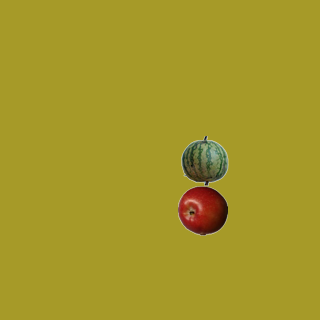Apple Braeburn: (177, 185, 227, 235)
Watermelon: (179, 135, 229, 185)
